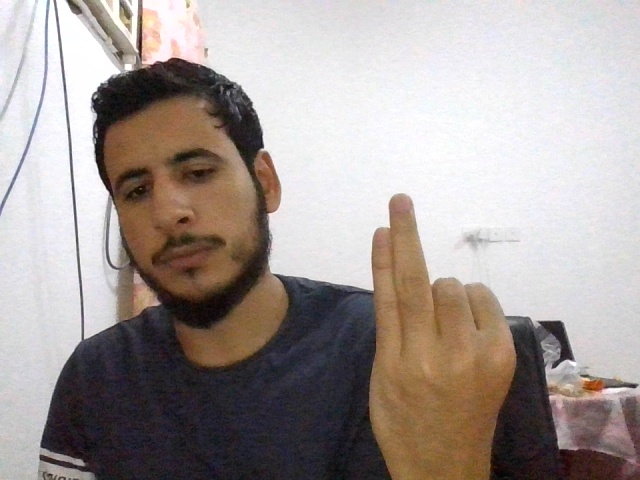Two: (369, 193, 518, 450)
